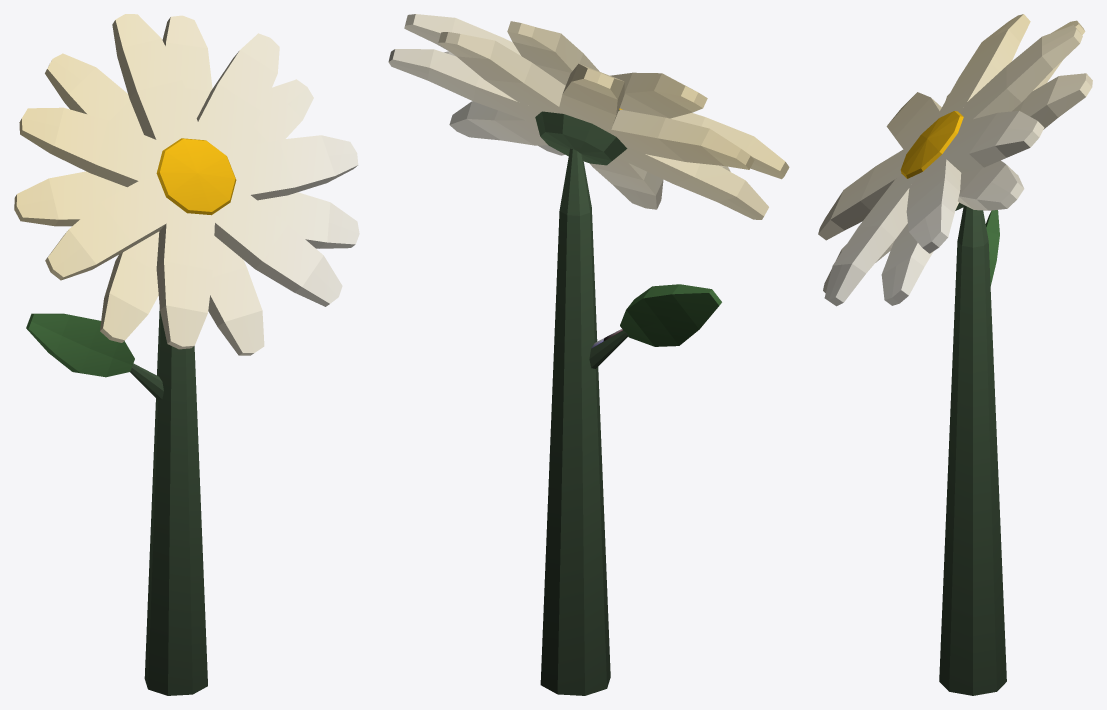
File: Chamomile.fbx
3 renders of one model, left to right at view 1: azimuth 30°, elevation 25°; view 2: azimuth 150°, elevation 25°; view 3: azimuth 270°, elevation 25°, orthographic. The views are drawn at different scales.
Parts seen in each view (by area): view 1: Cube.003, Cube.001, Cylinder, Sphere, Cube, Cylinder.001; view 2: Cylinder, Cube.001, Cube.003, Cube, Sphere, Cylinder.001; view 3: Cube.003, Cylinder, Cube.001, Sphere, Cube.
Part boxes in pixels (box(x1,y1,x2,y2)): Cube.003: box(19, 14, 358, 349); Cube.001: box(14, 15, 359, 355); Cylinder: box(144, 309, 207, 695); Sphere: box(156, 138, 236, 215); Cube: box(26, 313, 134, 377); Cylinder.001: box(130, 363, 163, 400); Cylinder: box(540, 148, 610, 695); Cube.001: box(388, 32, 768, 219); Cube.003: box(404, 14, 789, 179); Cube: box(620, 284, 721, 346); Sphere: box(535, 108, 627, 165); Cylinder.001: box(589, 329, 627, 368); Cube.003: box(818, 14, 1082, 306); Cylinder: box(939, 205, 1006, 695); Cube.001: box(823, 20, 1092, 305); Sphere: box(900, 111, 964, 210); Cube: box(985, 210, 999, 285).
Size of the model in its own units: 244 by 460 by 176.
1 material, 1 textured.
